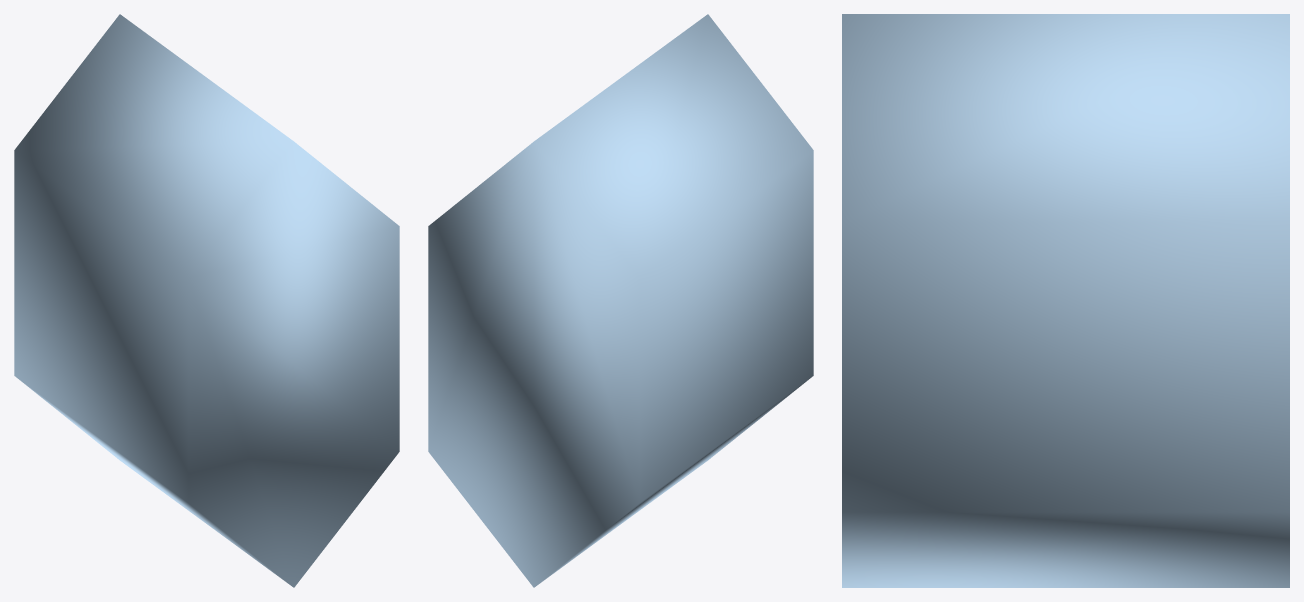
File: hiddenite.glb
3 renders of one model, left to right at view 1: azimuth 30°, elevation 25°; view 2: azimuth 150°, elevation 25°; view 3: azimuth 270°, elevation 25°, orthographic. The views are drawn at different scales.
Parts seen in each view (by area): view 1: hiddenite; view 2: hiddenite; view 3: hiddenite.
Part boxes in pixels (x1,y1,x2,y2): hiddenite: (14, 14, 399, 587); hiddenite: (428, 14, 813, 587); hiddenite: (842, 14, 1289, 587).
Size of the model in its own units: 1.4 by 2.83 by 2.
